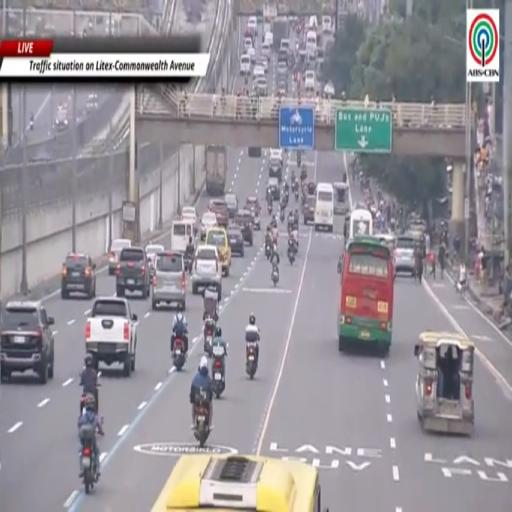bus: (152, 455, 323, 511), (339, 236, 394, 354), (314, 183, 333, 232), (349, 208, 373, 238), (333, 183, 350, 215)
car: (0, 301, 54, 383), (152, 251, 186, 310), (61, 253, 95, 298), (192, 245, 221, 297), (206, 227, 231, 276), (394, 233, 417, 276), (108, 239, 131, 275), (235, 210, 253, 246), (145, 245, 164, 277), (209, 199, 228, 227), (200, 212, 218, 241), (228, 226, 244, 257), (245, 197, 260, 230), (182, 206, 197, 236), (269, 150, 282, 183), (224, 193, 239, 219), (54, 106, 68, 132), (303, 195, 315, 225), (267, 178, 280, 200), (86, 92, 98, 114), (254, 76, 267, 95), (182, 206, 197, 222), (240, 54, 251, 75), (256, 57, 269, 73), (270, 149, 282, 166), (276, 61, 288, 75), (248, 16, 257, 34), (243, 37, 253, 53), (253, 64, 264, 78), (247, 47, 256, 63), (261, 42, 270, 57)
jeepney: (415, 331, 474, 436)
motorcycle: (79, 425, 98, 493), (81, 442, 97, 493), (212, 344, 225, 398), (194, 403, 210, 446), (172, 338, 185, 371), (246, 343, 257, 379), (204, 323, 215, 357), (93, 381, 100, 414), (204, 331, 212, 357), (287, 244, 296, 265), (184, 255, 192, 274), (271, 267, 278, 287), (265, 244, 271, 260), (292, 179, 299, 192), (294, 188, 299, 202), (280, 210, 284, 223), (268, 203, 272, 215)
truck: (86, 297, 137, 376), (116, 247, 150, 297), (205, 146, 227, 197), (272, 18, 290, 52)
